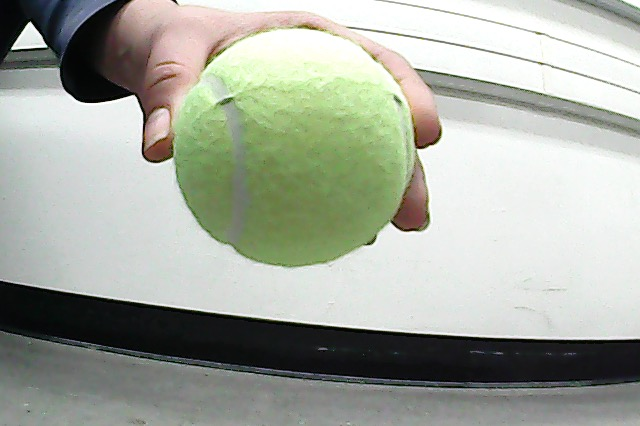ball: (168, 23, 419, 273)
